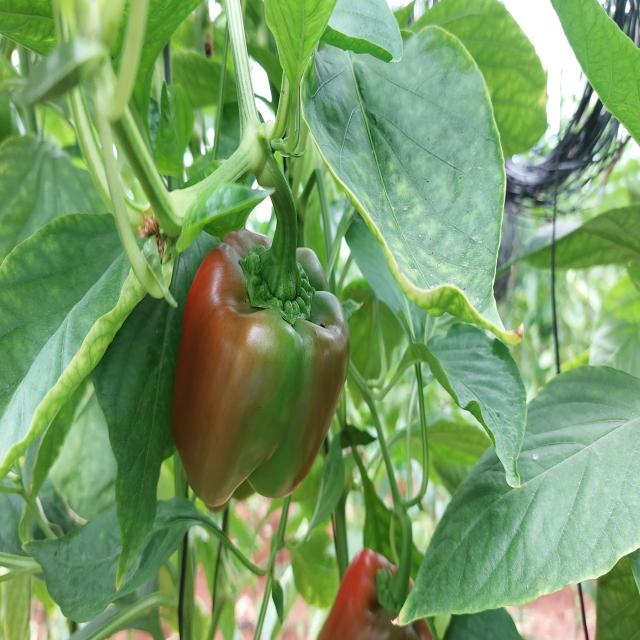BrownishRed--Can-be-Harvested: (165, 219, 353, 533)
